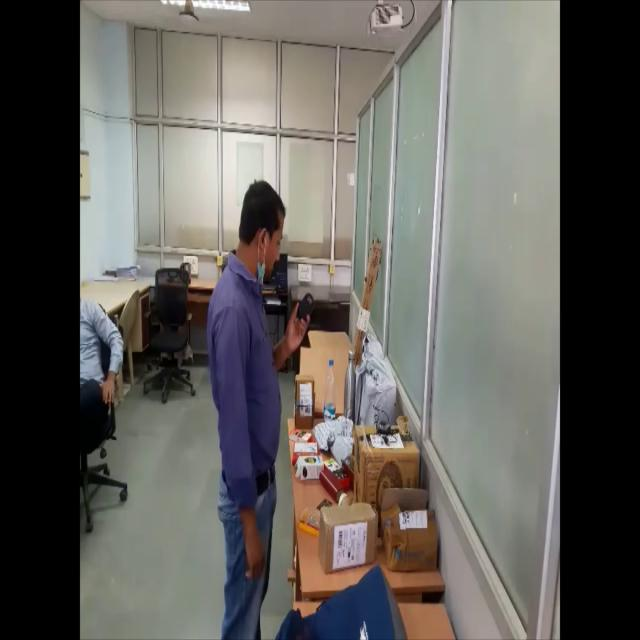normal: (202, 163, 318, 640)
